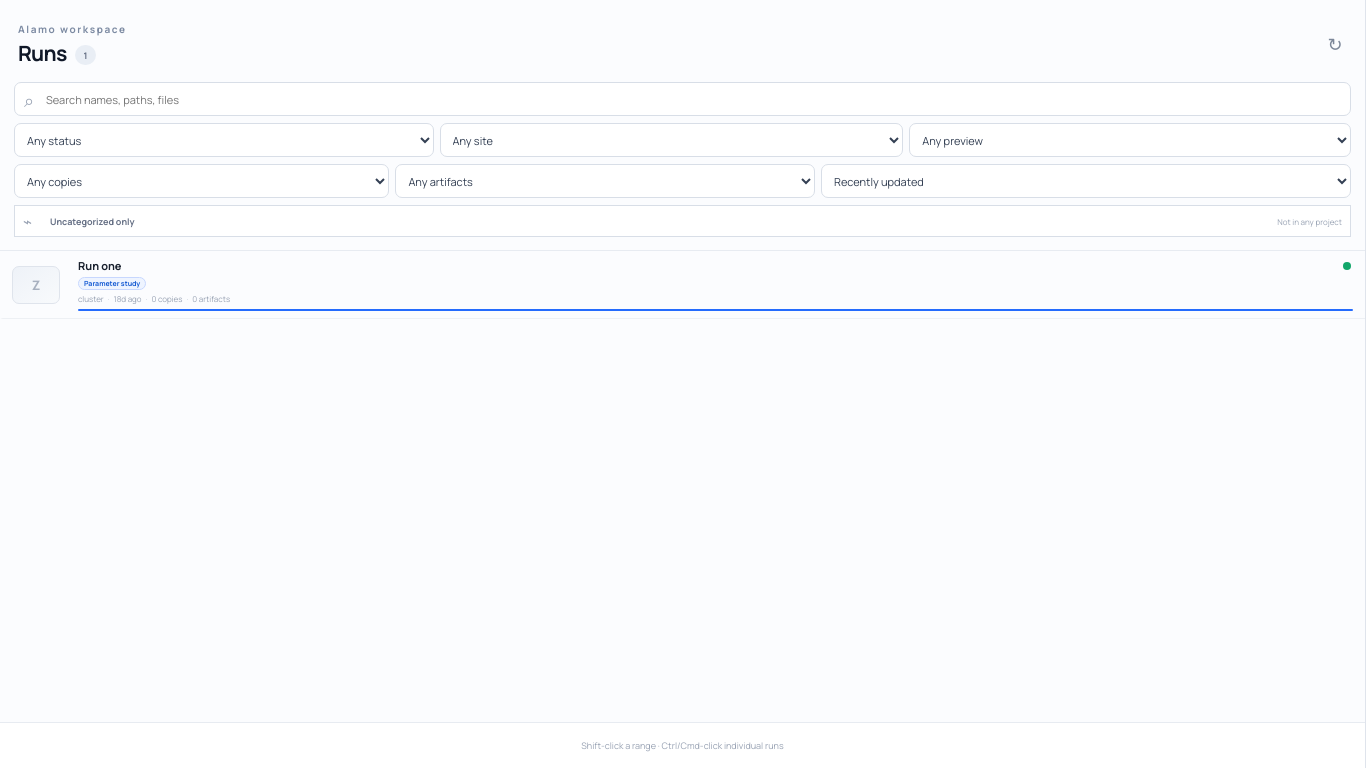
Test: RunBrowser › sends path search and storage filters to the server
Expected: the text titled "Project: Parameter study" is shown, [84,279,140,288]
In the field named "Search runs": [682, 99] box [14,82,1351,116], type ".gif"
Select "stampede3 (4)" in the dropdown named "Filter storage site": [672, 140] box [440,123,903,157]
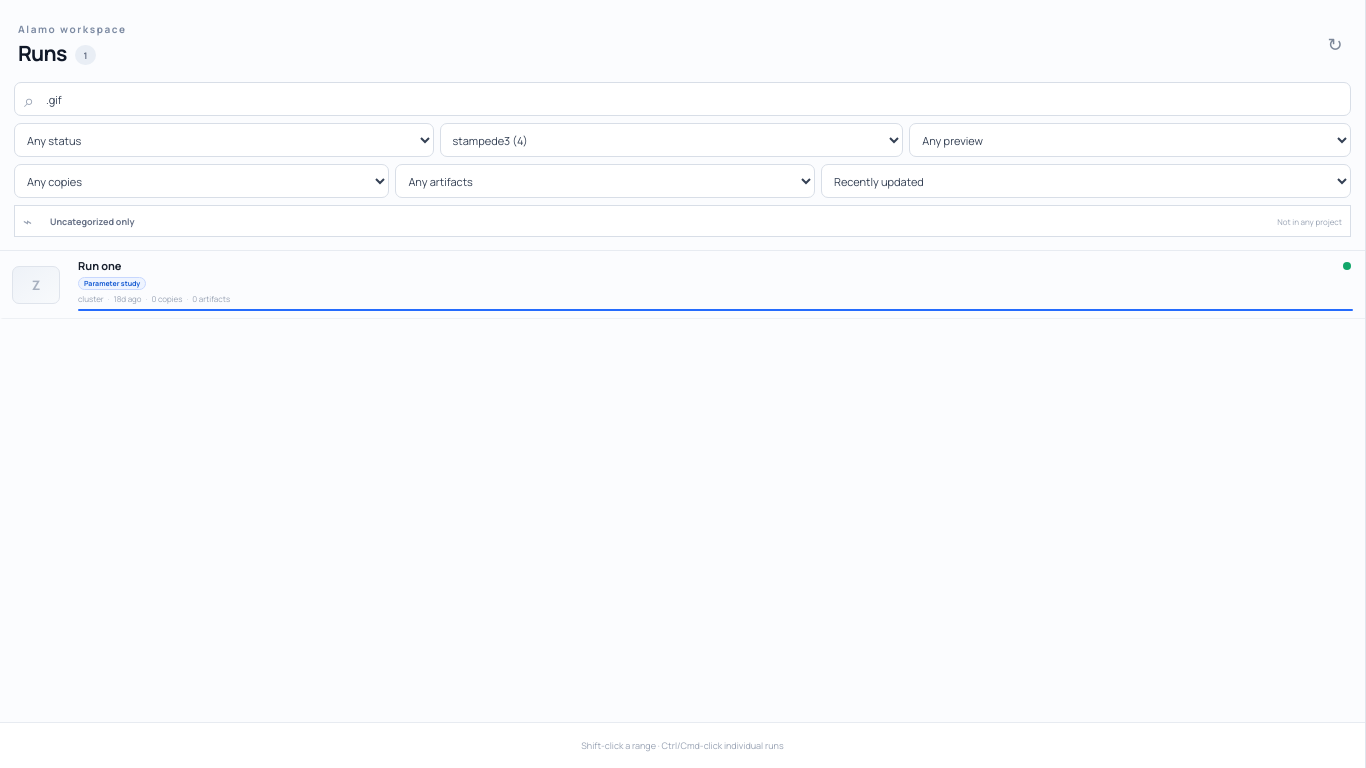
Select "Has thumbnail" in the dropdown named "Filter thumbnail": [1130, 140] box [909,123,1351,157]
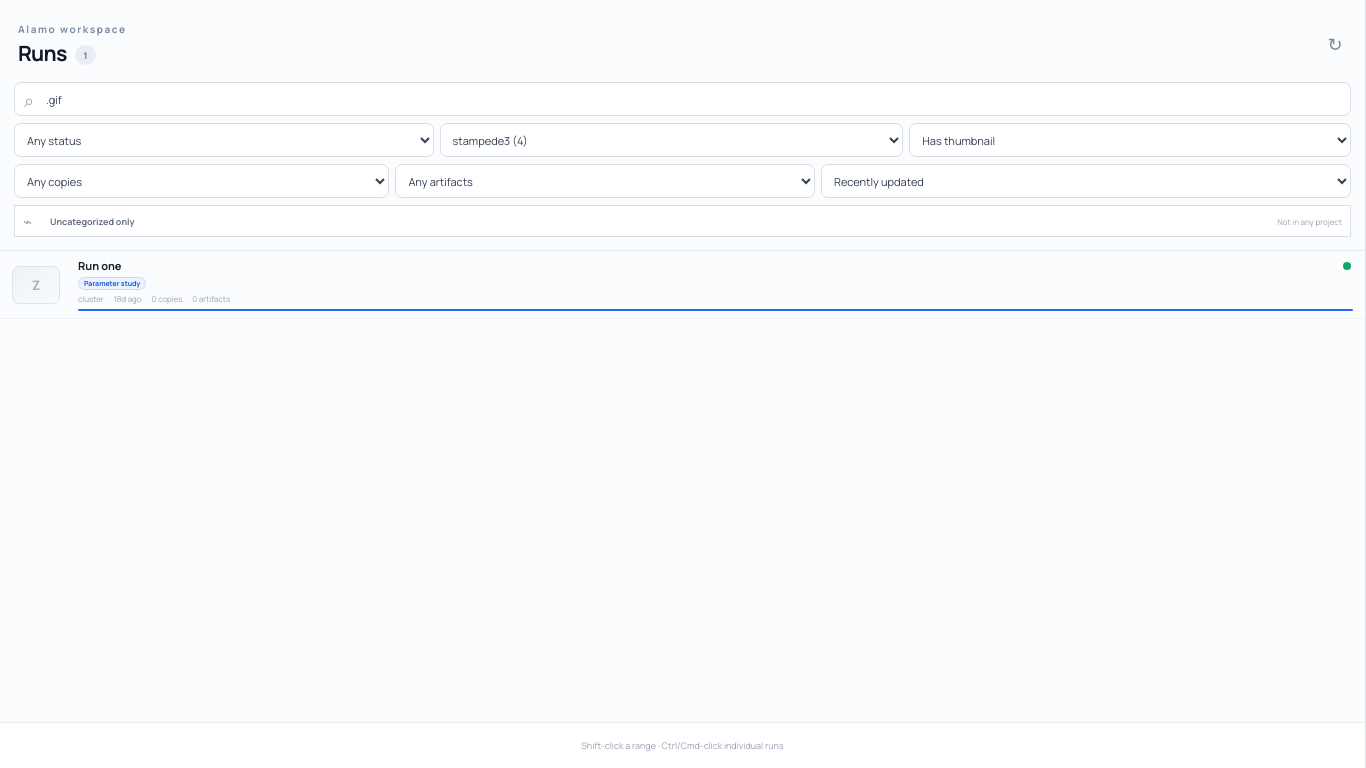
Select "No copies" in the dropdown named "Filter copies": [202, 181] box [14,164,389,198]
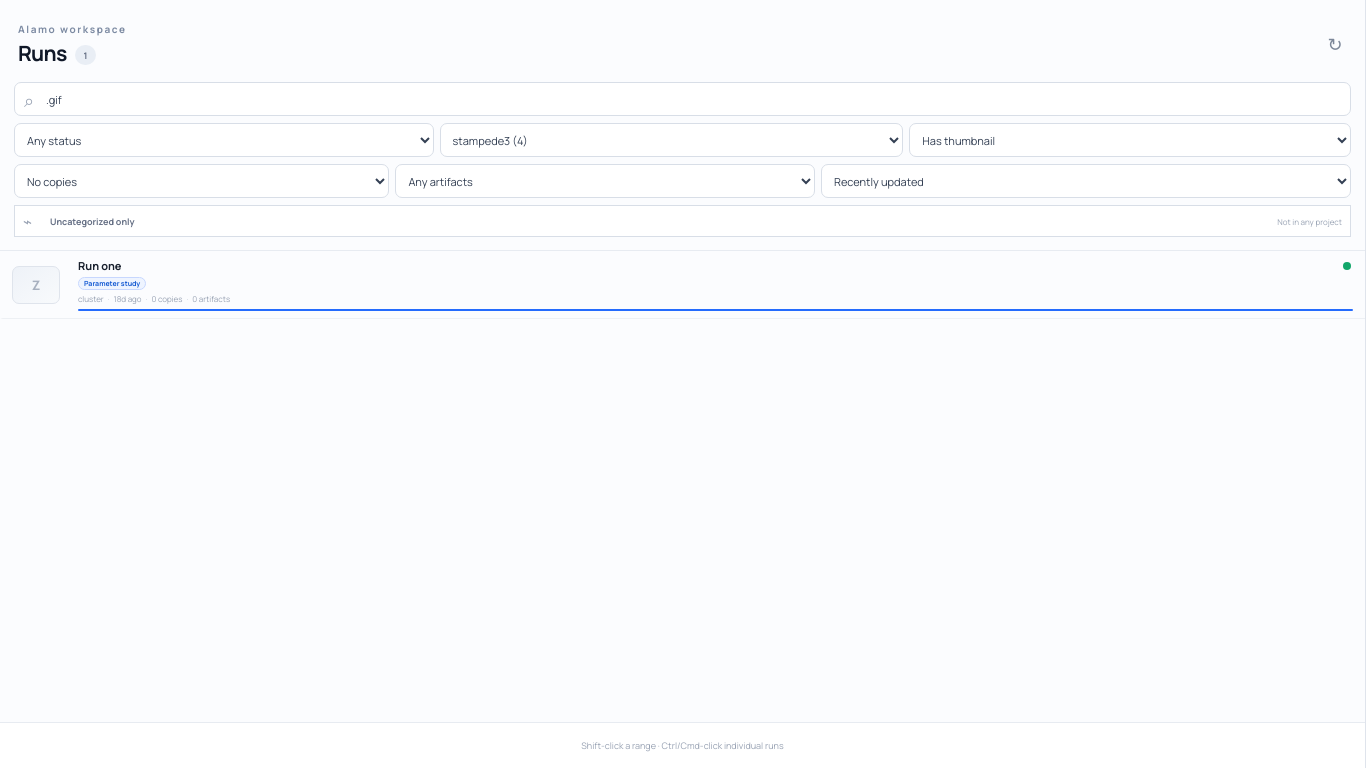
Select "Has artifacts" in the dropdown named "Filter artifacts": [605, 181] box [395,164,815,198]
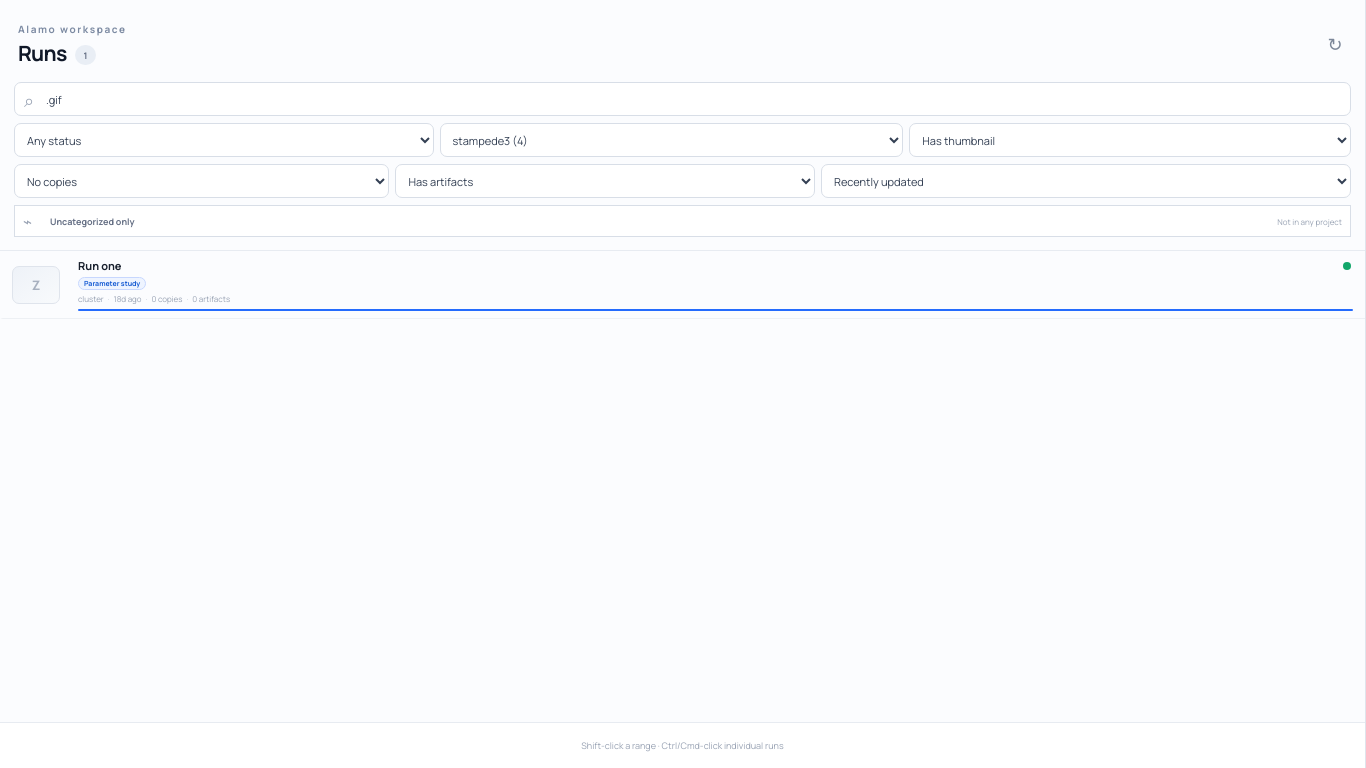
Select "Most artifacts" in the dropdown named "Sort runs": [1086, 181] box [821,164,1351,198]
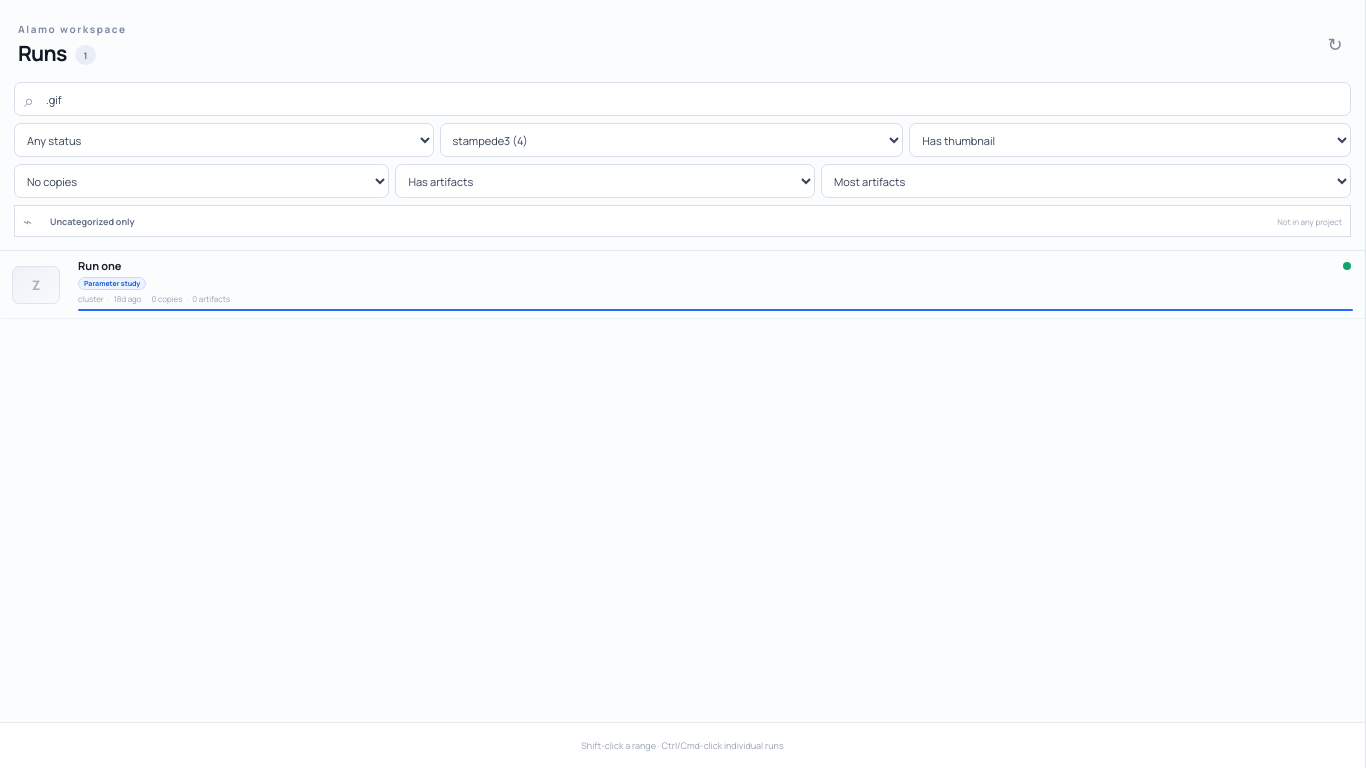
Click the button "⌁ Uncategorized only Not in any project": [92, 221] box [14,205,1351,237]
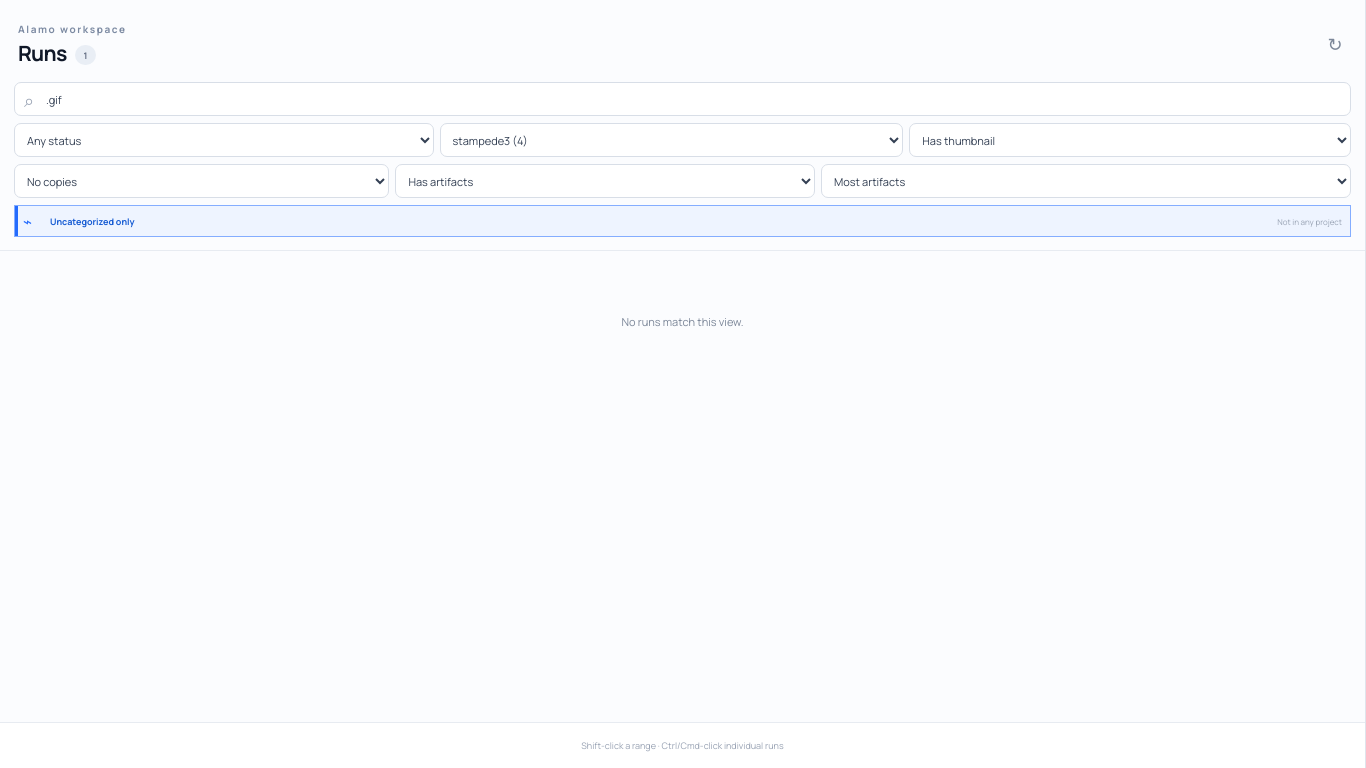
Result: the text "No runs match this view." is shown at [622,314,743,328]
